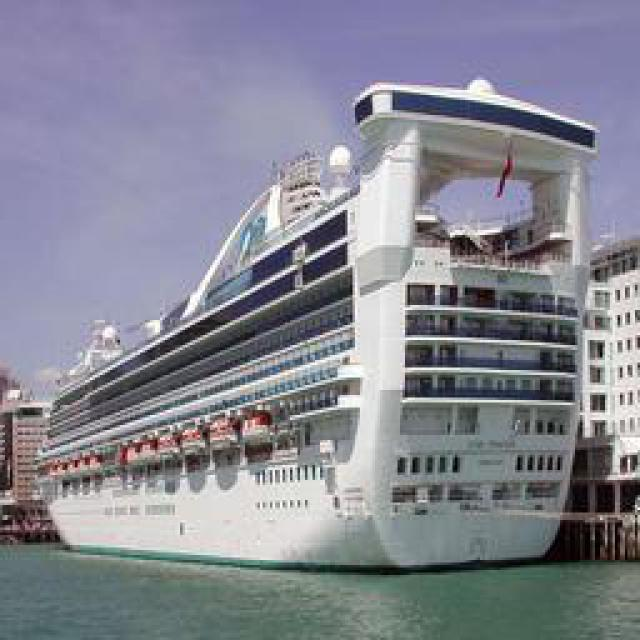Ship: (35, 77, 593, 577)
